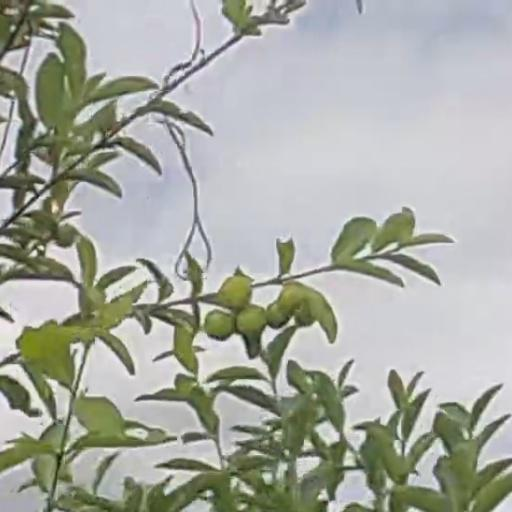acerola: (240, 309, 267, 336), (207, 313, 232, 339), (269, 305, 289, 330)
